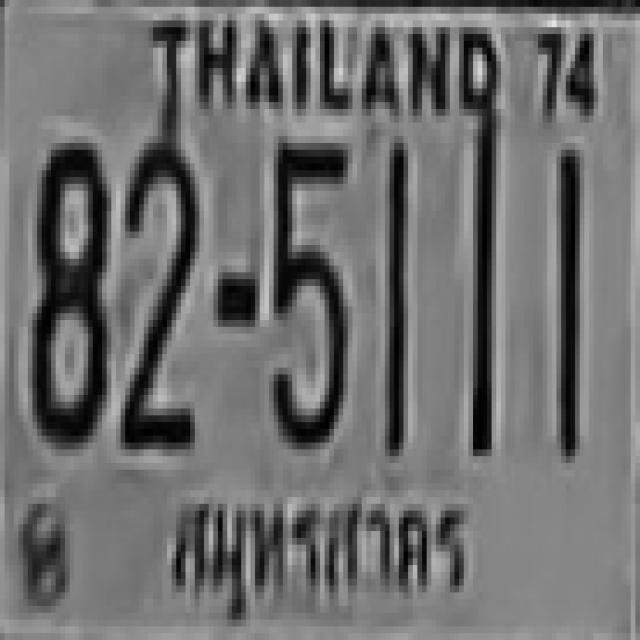1: (382, 143, 406, 436)
2: (118, 136, 197, 415)
5: (269, 140, 343, 446)
8: (28, 133, 102, 439)
SamutSakhon: (162, 470, 482, 636)
